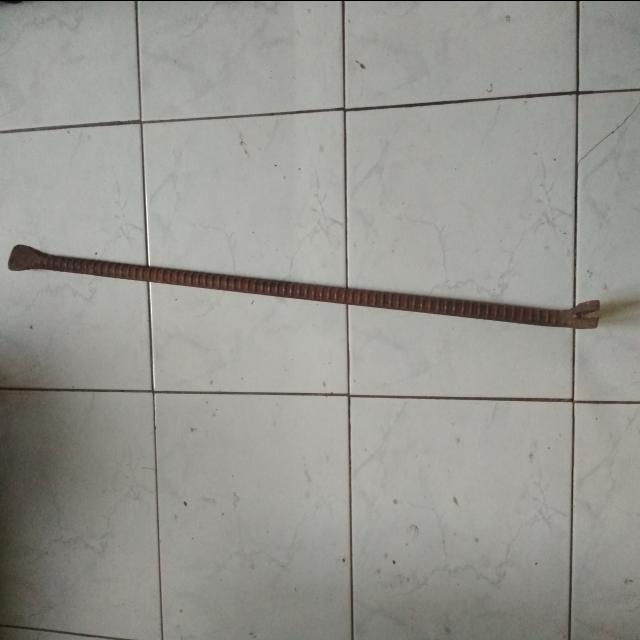Linggis: (6, 243, 604, 327)
